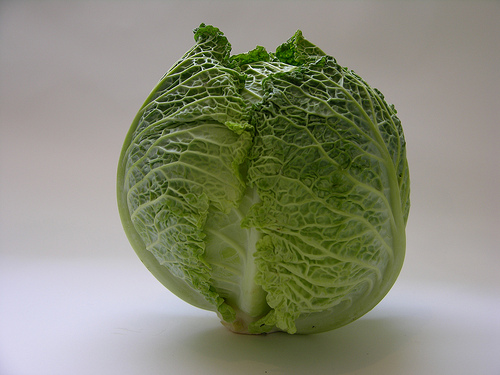cabbage: (116, 22, 412, 339)
